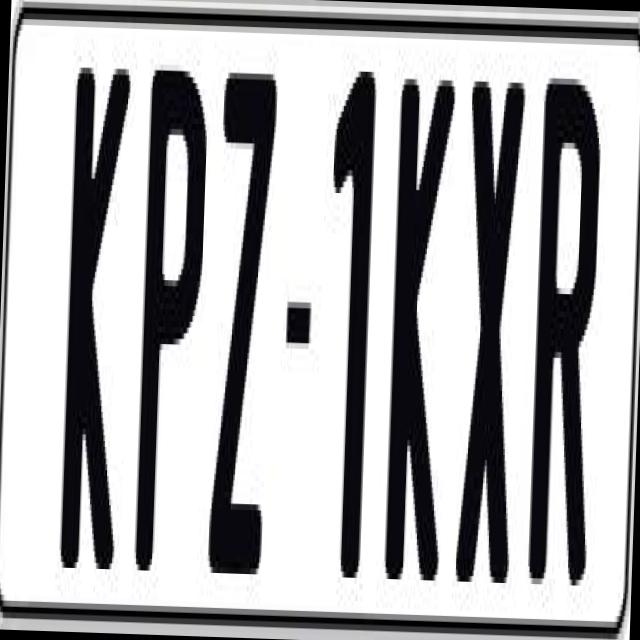1: (316, 71, 375, 584)
K: (58, 50, 139, 581), (384, 73, 460, 586)
P: (130, 64, 214, 566)
R: (526, 71, 607, 614)
X: (453, 69, 530, 600)
Z: (207, 61, 280, 592)
